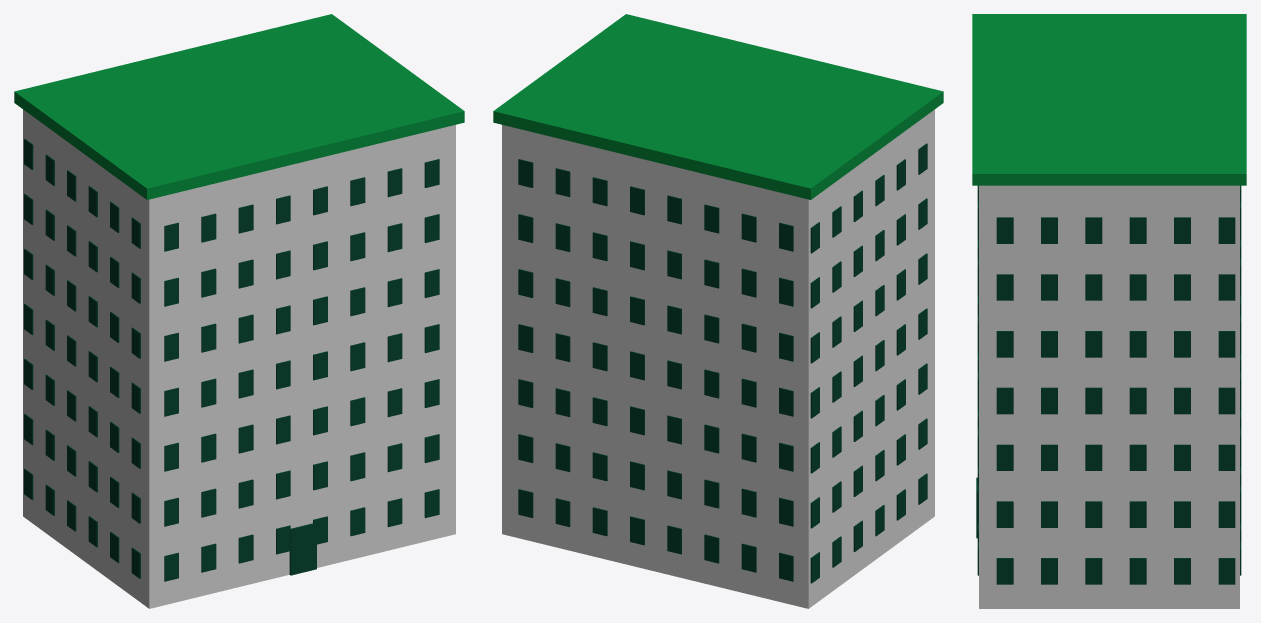
Rendered from office.glb.
3 renders of one model, left to right at view 1: azimuth 30°, elevation 25°; view 2: azimuth 150°, elevation 25°; view 3: azimuth 270°, elevation 25°, orthographic. The views are drawn at different scales.
Parts seen in each view (by area): view 1: walls_white, flat-roof_green, window_darkgreen, door_darkgreen; view 2: walls_white, flat-roof_green, window_darkgreen; view 3: walls_white, flat-roof_green, window_darkgreen.
Part boxes in pixels (bbox=[...]): walls_white: bbox=[23, 109, 455, 608]; flat-roof_green: bbox=[14, 14, 464, 199]; window_darkgreen: bbox=[24, 139, 439, 581]; door_darkgreen: bbox=[289, 523, 316, 575]; walls_white: bbox=[502, 109, 934, 608]; flat-roof_green: bbox=[493, 14, 943, 199]; window_darkgreen: bbox=[518, 143, 927, 583]; walls_white: bbox=[979, 185, 1239, 608]; flat-roof_green: bbox=[972, 14, 1246, 185]; window_darkgreen: bbox=[977, 185, 1241, 584].
Bounding box in the file's own units: 14.5 × 18.5 × 10.5.
